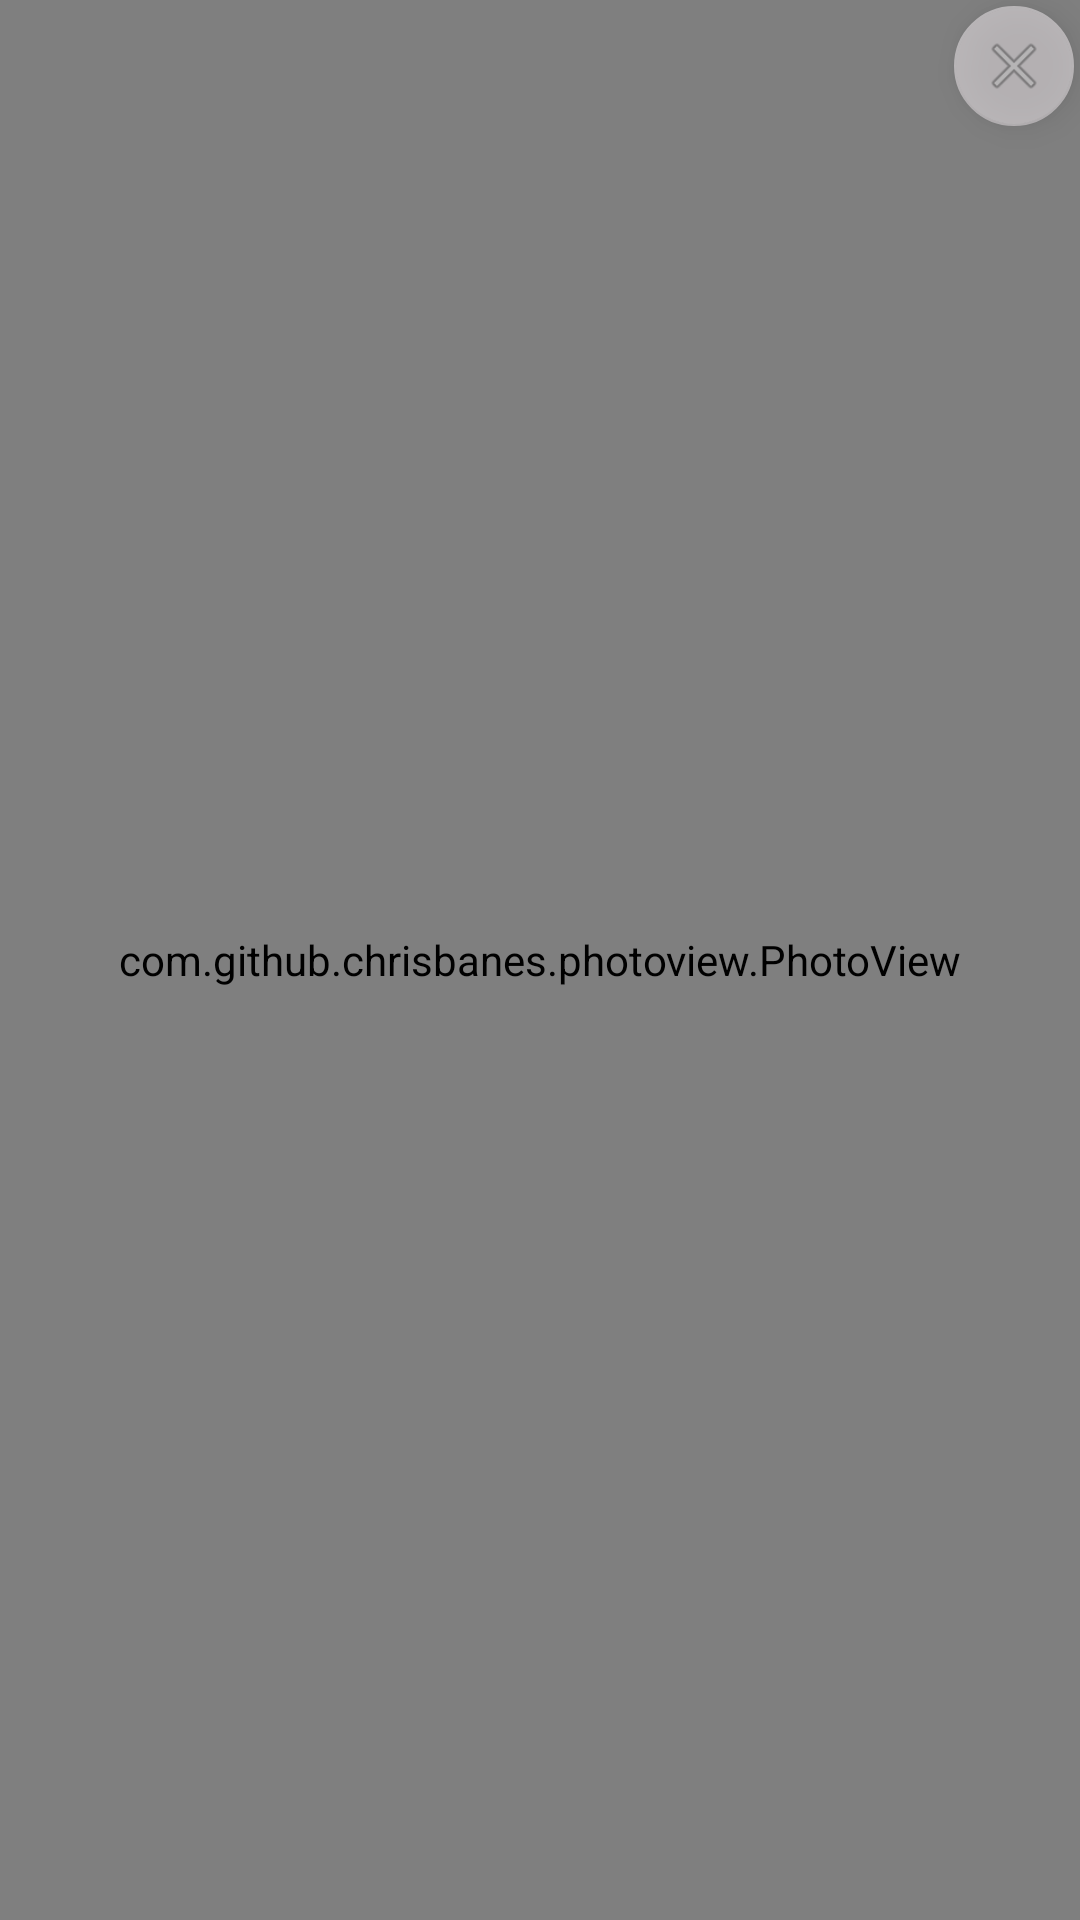

Icon click points for this 1080 × 1920 phone screenshot, format (x,y):
close clear cancel: (1014,66)
